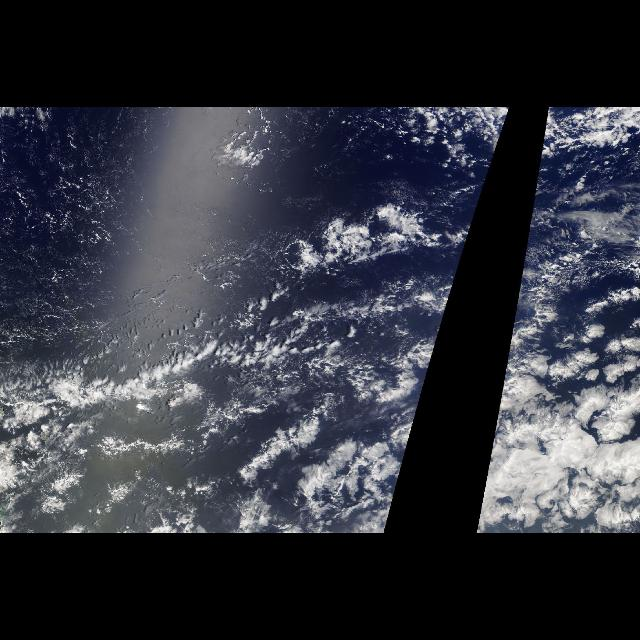Flower: (249, 387, 426, 531)
Sugar: (0, 108, 236, 356), (243, 107, 452, 209)
